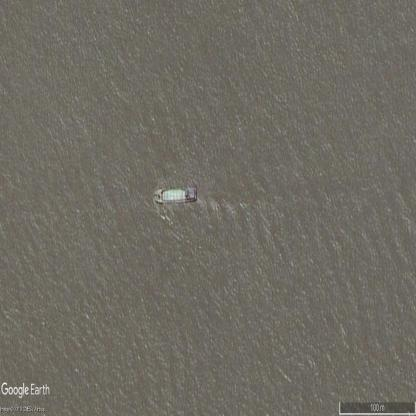ship: (153, 187, 199, 203)
